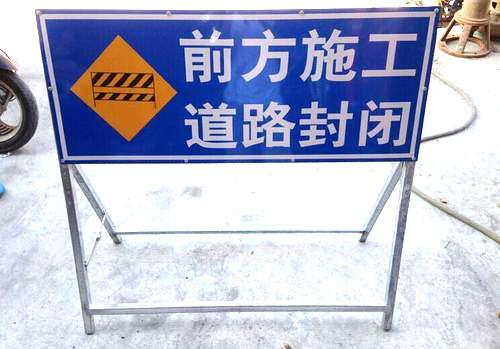sign: (38, 9, 430, 165)
